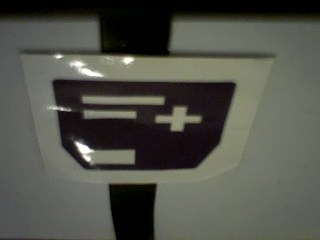Supply_Station: (50, 78, 238, 172)
